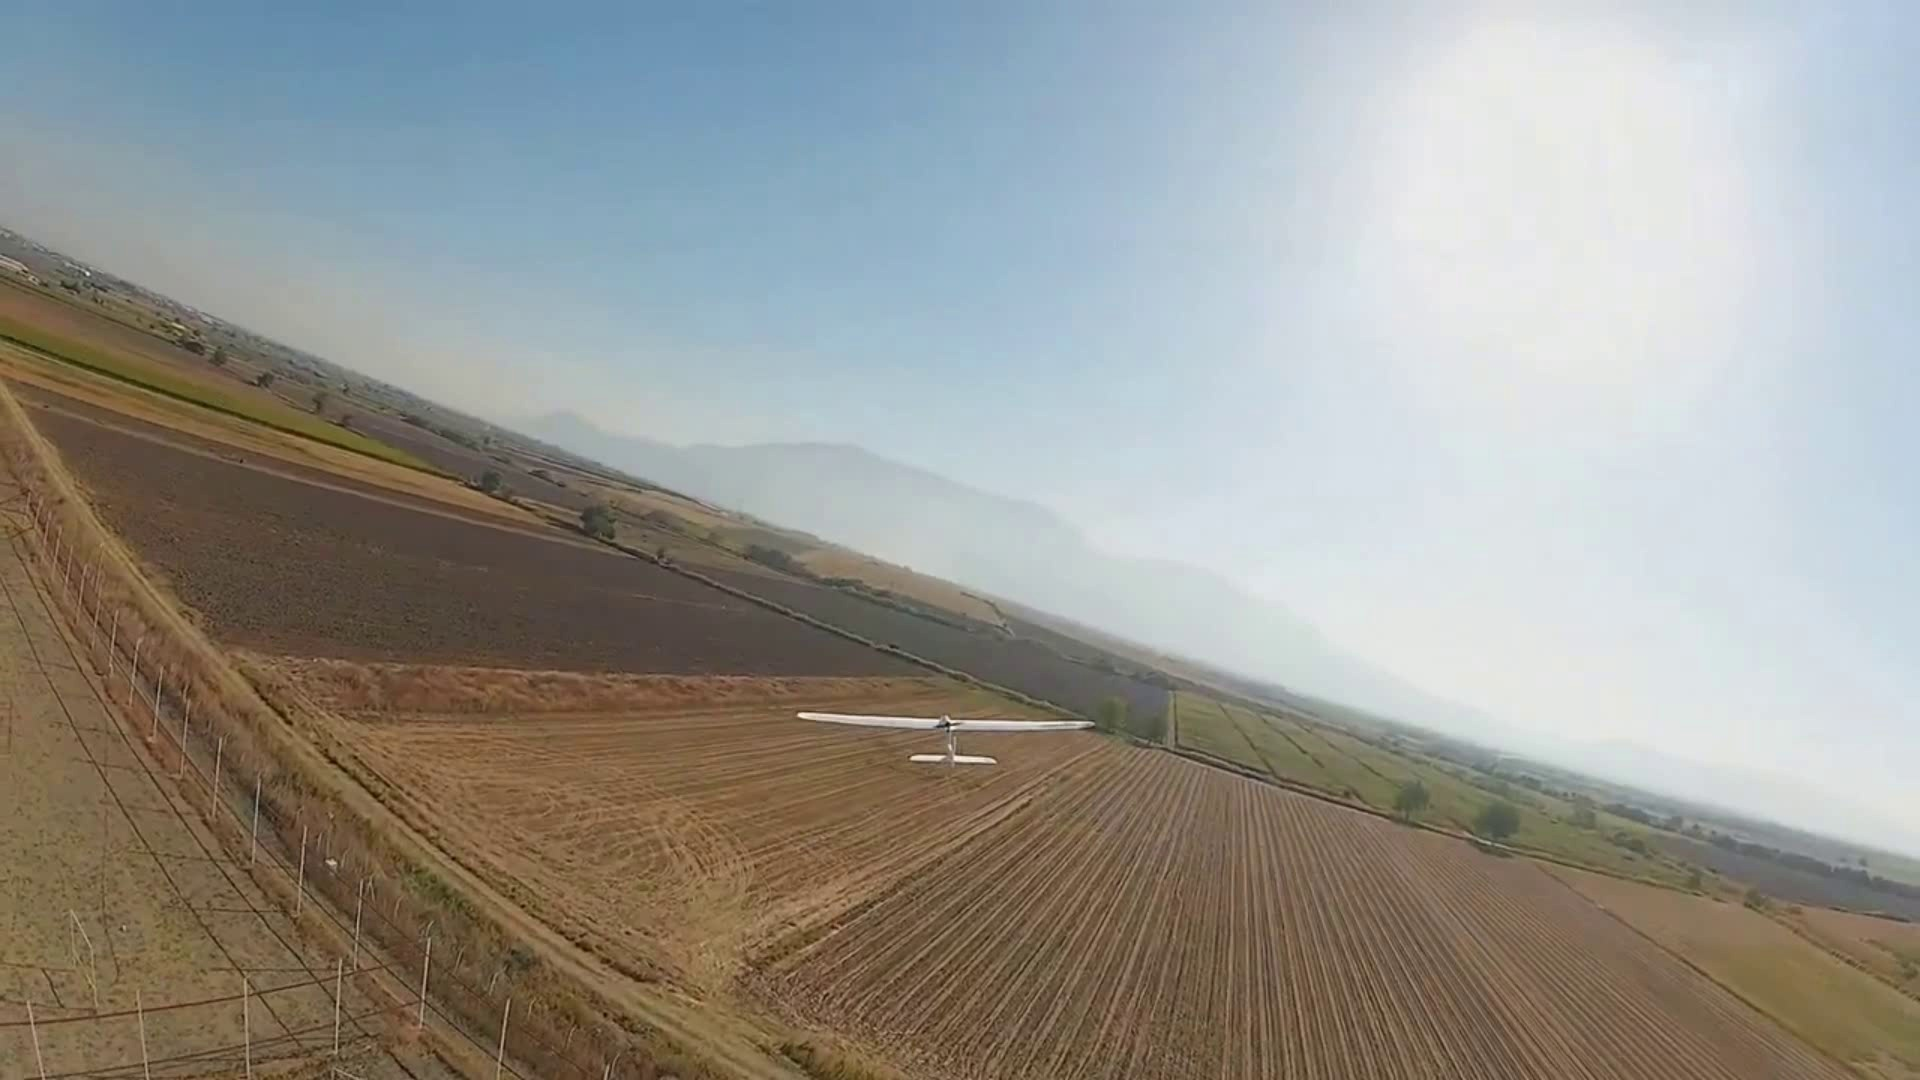airplane: (5, 226, 1909, 944), (793, 706, 999, 770)
